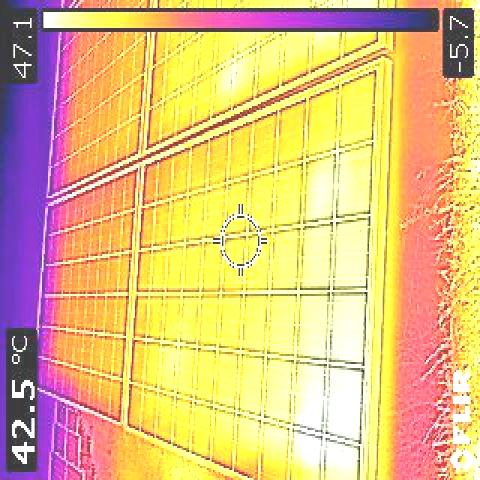fault: (297, 160, 369, 480)
